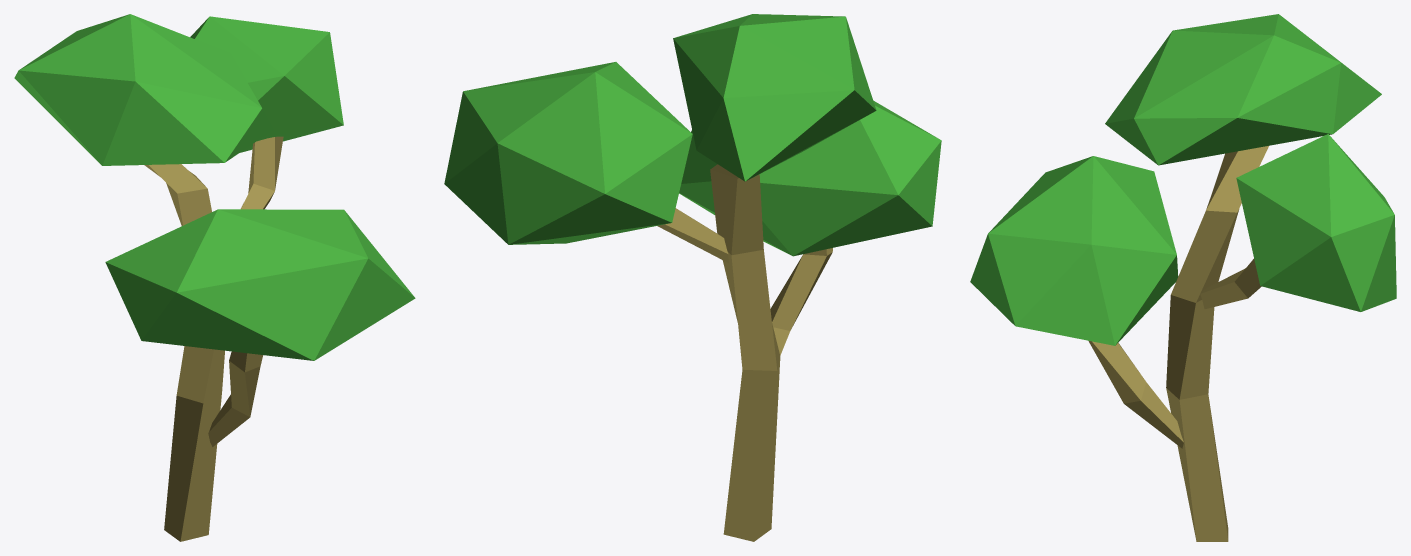
Rendered from MapleTree_8.fbx.
3 renders of one model, left to right at view 1: azimuth 30°, elevation 25°; view 2: azimuth 150°, elevation 25°; view 3: azimuth 270°, elevation 25°, orthographic. The views are drawn at different scales.
Visible parts, largest first — view 1: Leaves, Leaves.002, Leaves.001, Trunk, Trunk.002, Trunk.001; view 2: Leaves.001, Leaves.002, Leaves, Trunk, Trunk.002, Trunk.001; view 3: Leaves, Leaves.002, Leaves.001, Trunk, Trunk.002, Trunk.001.
Part boxes in pixels (left/top/right/bottom): Leaves: left=105, top=209, right=415, bottom=360; Leaves.002: left=14, top=14, right=273, bottom=165; Leaves.001: left=190, top=16, right=343, bottom=152; Trunk: left=144, top=164, right=224, bottom=541; Trunk.002: left=208, top=351, right=263, bottom=446; Trunk.001: left=241, top=136, right=283, bottom=209; Leaves.001: left=444, top=62, right=692, bottom=244; Leaves.002: left=673, top=14, right=876, bottom=181; Leaves: left=679, top=100, right=941, bottom=256; Trunk: left=710, top=164, right=780, bottom=541; Trunk.002: left=770, top=248, right=832, bottom=355; Trunk.001: left=657, top=208, right=728, bottom=263; Leaves: left=970, top=156, right=1178, bottom=345; Leaves.002: left=1105, top=14, right=1381, bottom=165; Leaves.001: left=1236, top=134, right=1396, bottom=311; Trunk: left=1166, top=146, right=1268, bottom=541; Trunk.002: left=1088, top=340, right=1183, bottom=448; Trunk.001: left=1200, top=259, right=1261, bottom=308.
Size of the model in its own units: 225 by 316 by 251.
